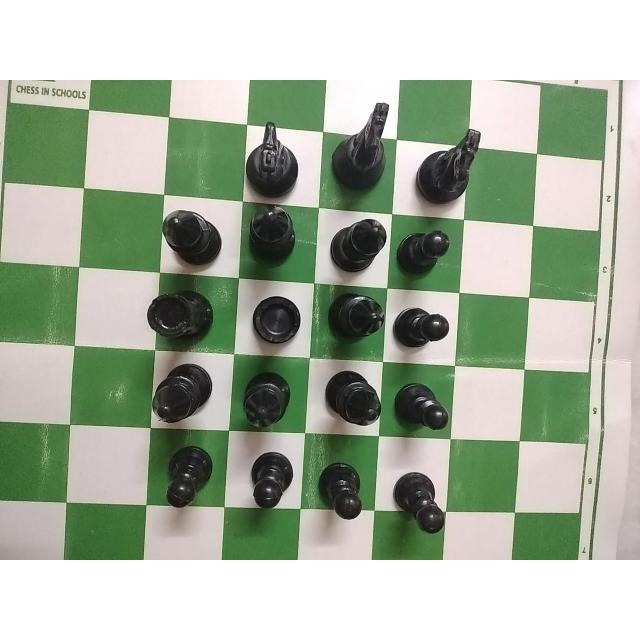black-bishop: (147, 359, 218, 431), (323, 355, 384, 433), (325, 211, 386, 283), (161, 200, 221, 273), (244, 196, 304, 268), (237, 368, 297, 436), (328, 290, 388, 355)
black-knight: (330, 97, 396, 189), (412, 125, 484, 202), (244, 124, 298, 199)
black-pawn: (316, 447, 376, 526), (158, 445, 220, 513), (396, 297, 456, 367), (244, 443, 298, 516), (396, 469, 446, 538), (396, 378, 452, 439), (398, 224, 450, 279)
black-rook: (145, 284, 221, 350), (242, 292, 306, 352)
